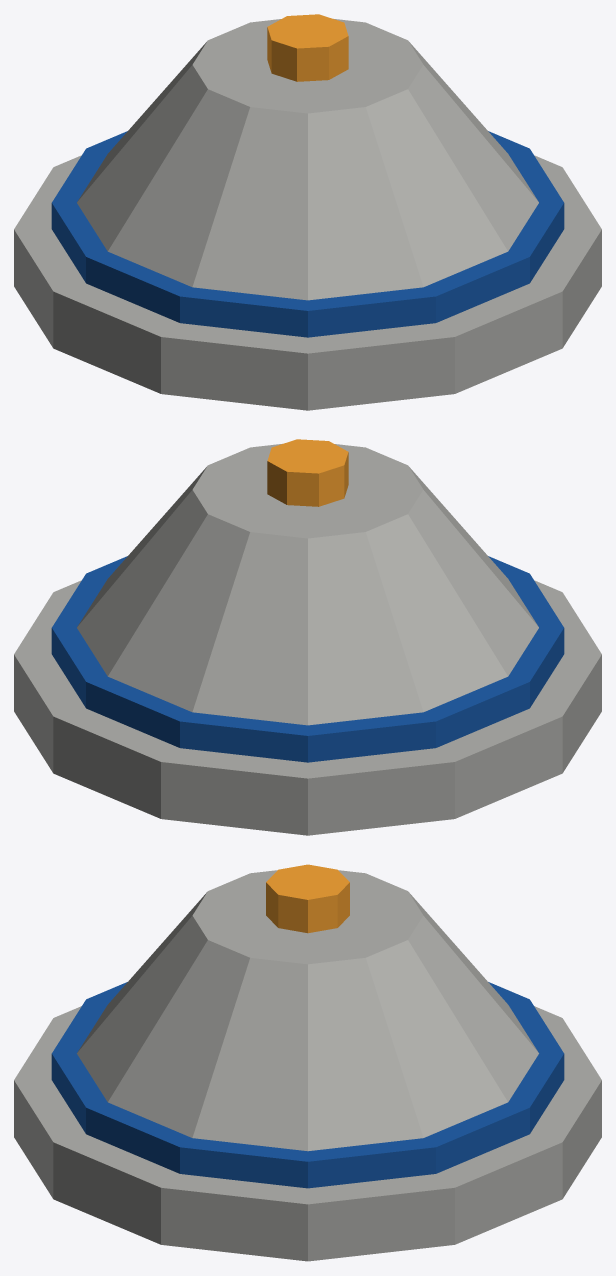
The model's file is civilian_dish.glb.
The picture shows the model from 3 angles, top to bottom: view 1: azimuth 30°, elevation 25°; view 2: azimuth 150°, elevation 25°; view 3: azimuth 270°, elevation 25°; orthographic projection.
Size of the model in its own units: 0.28 by 0.134 by 0.28.
